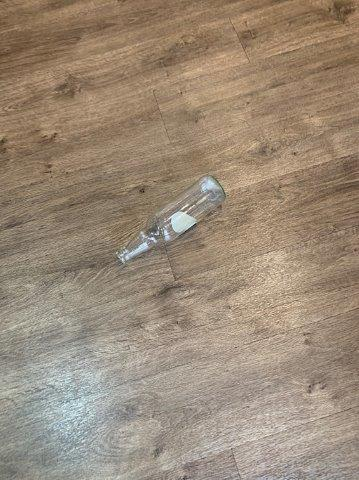botolkaca: (115, 173, 225, 262)
